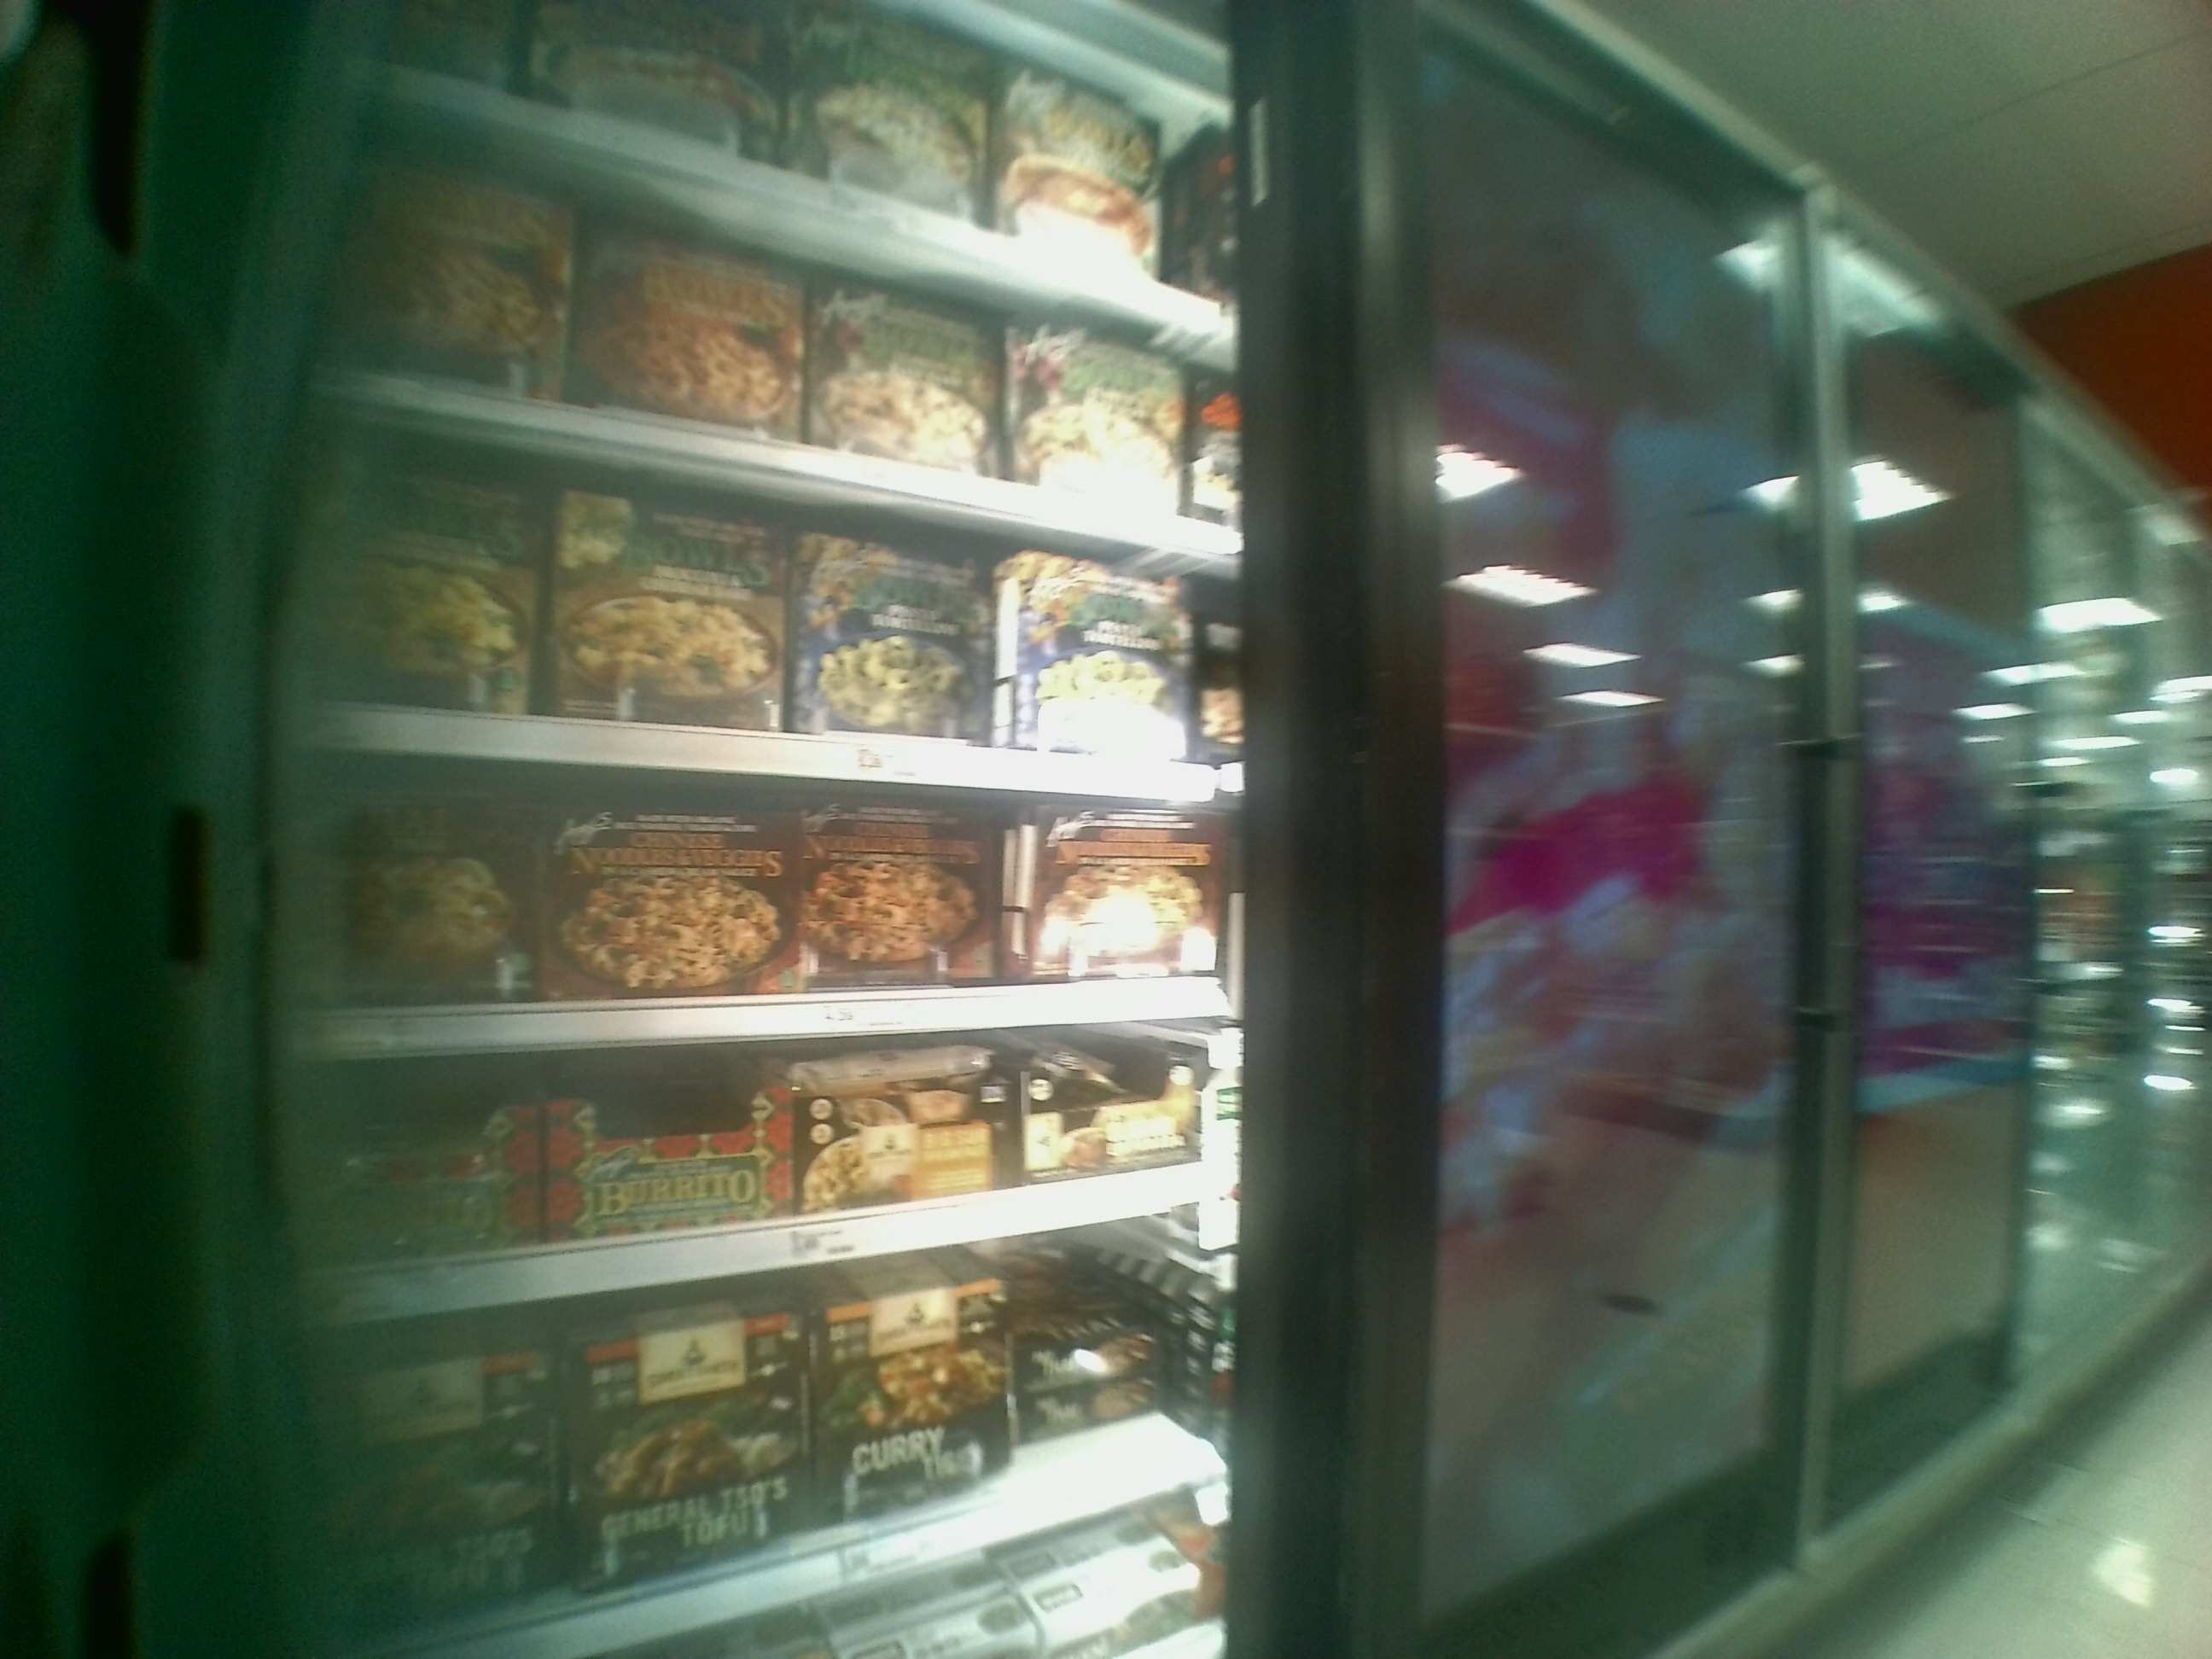shelf: (305, 390, 1238, 802), (293, 746, 1249, 1066), (291, 1016, 1228, 1335)
